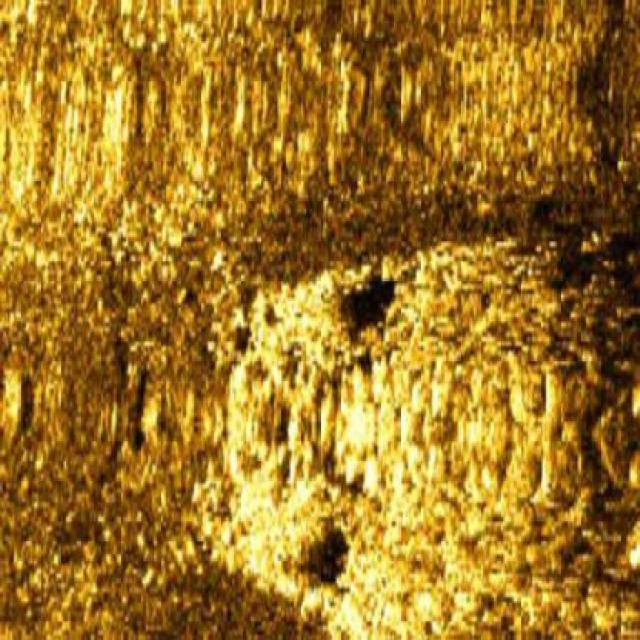bedrock group: (158, 226, 639, 640)
